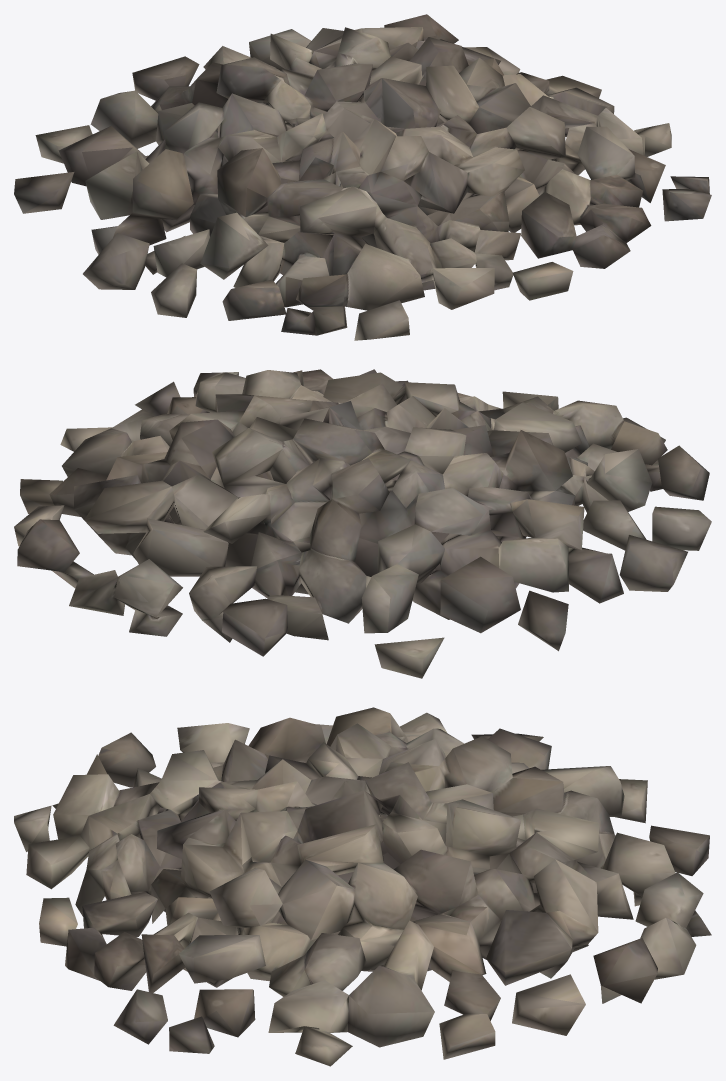
The model's file is gnd_temperate_pebbles.fbx.
3 views of the same model, one above another, from view 1: azimuth 30°, elevation 25°; view 2: azimuth 150°, elevation 25°; view 3: azimuth 270°, elevation 25° (orthographic). The views are drawn at different scales.
Visible parts, largest first — view 1: gnd_temperate_pebbles_LOD0; view 2: gnd_temperate_pebbles_LOD0; view 3: gnd_temperate_pebbles_LOD0.
Boxes of the visible parts, x1,y1,x2,y2 form: gnd_temperate_pebbles_LOD0: (14,14,711,340); gnd_temperate_pebbles_LOD0: (14,369,711,678); gnd_temperate_pebbles_LOD0: (14,707,711,1066).
Size of what is drawn, in the model's own units: 0.9851 by 0.1993 by 0.9057.
